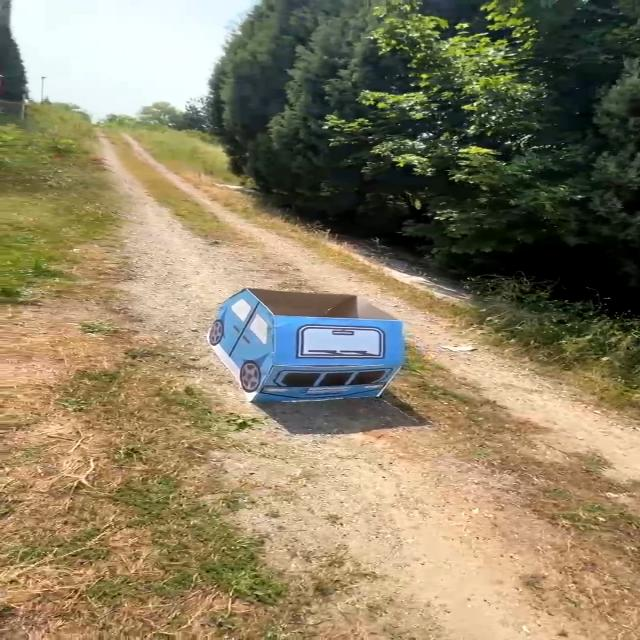blue_car: (168, 278, 435, 422)
